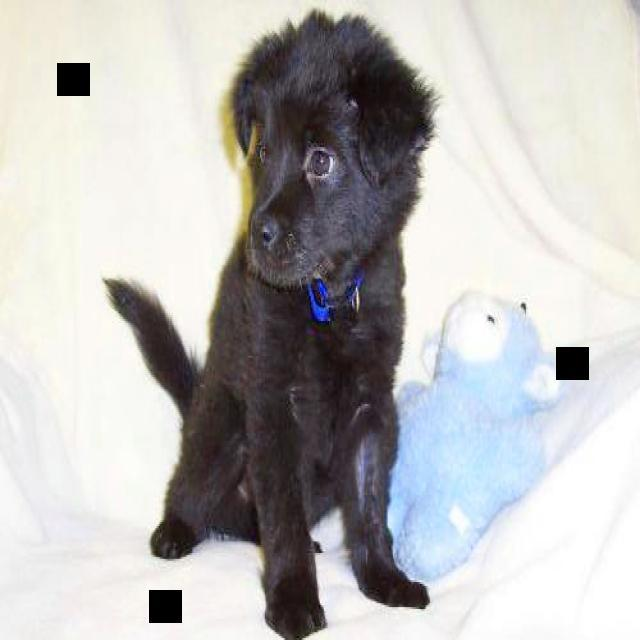puppy-dog: (100, 3, 441, 640)
